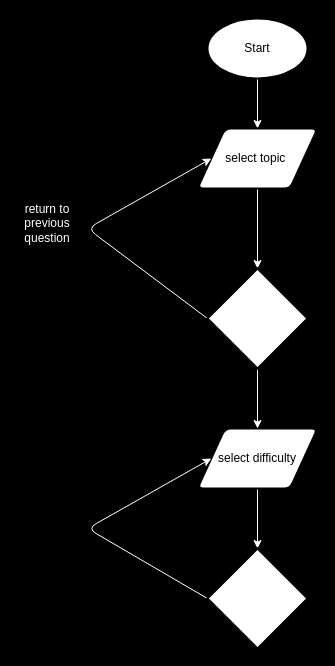
Image size: 335x666. Some labels were removed from this diagram. Here are the shapes that lost their labels. From the top down, the centre of each, then its label:
At point (257, 318): "Leave, go back, next.".
At point (257, 598): "Next, previous question, leave".
